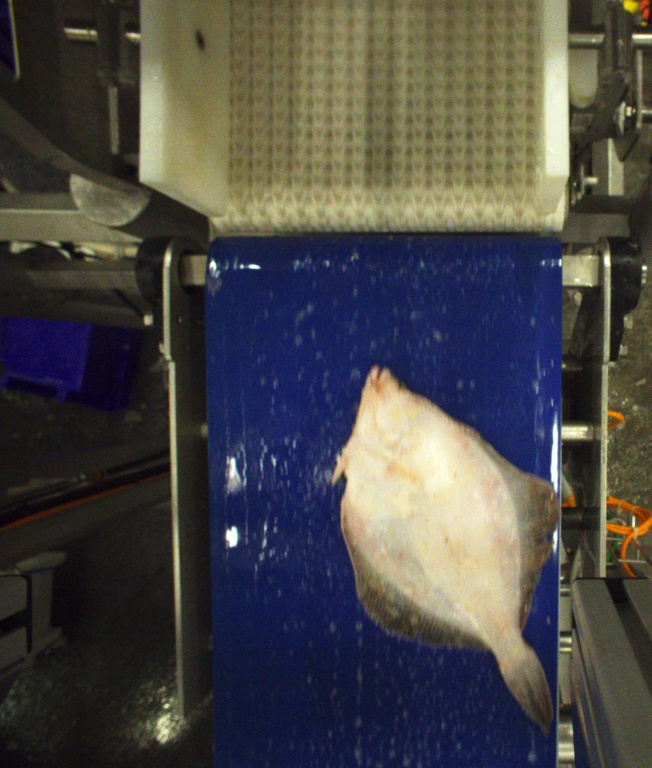PLE: (335, 365, 556, 737)
